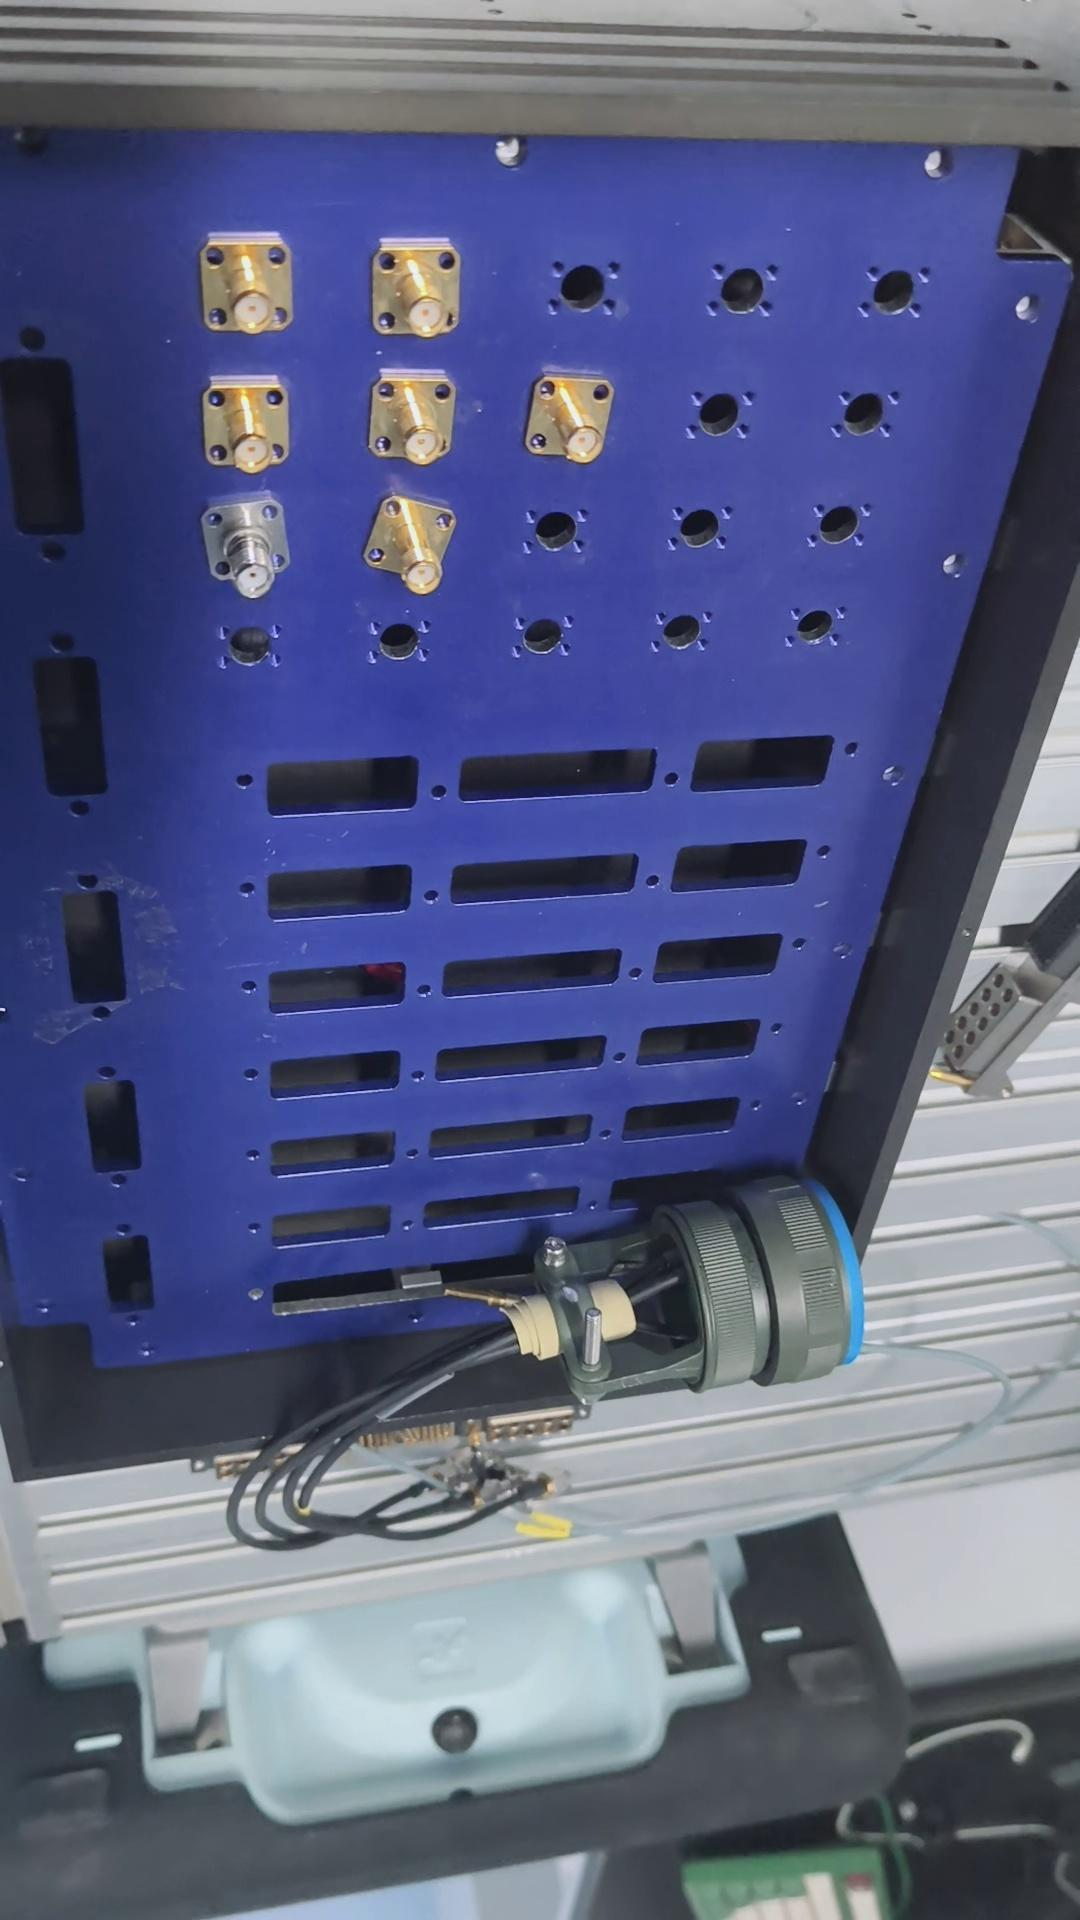SMA: (203, 228, 303, 342), (196, 495, 295, 596), (371, 236, 467, 340), (373, 491, 463, 593), (204, 376, 293, 468), (531, 368, 613, 464), (378, 372, 458, 465)
